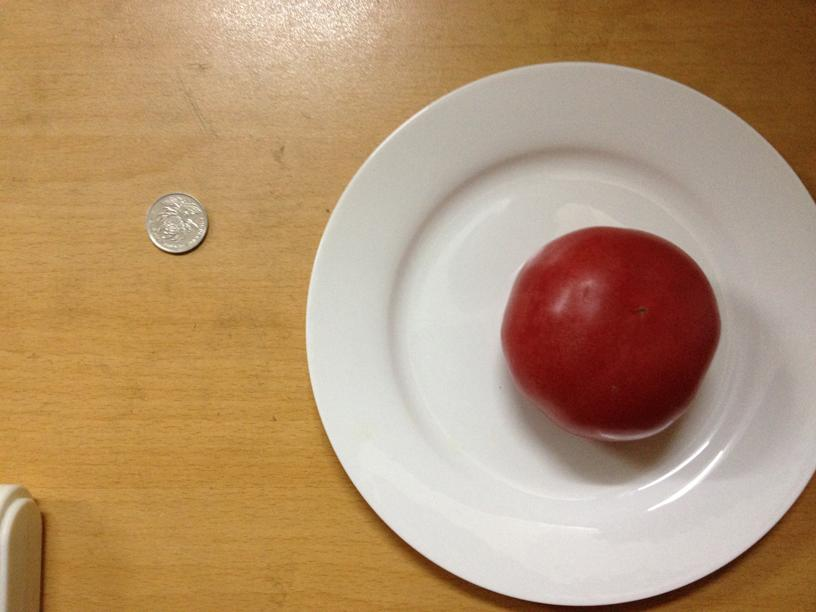coin: (145, 193, 206, 252)
tomato: (507, 231, 719, 441)
